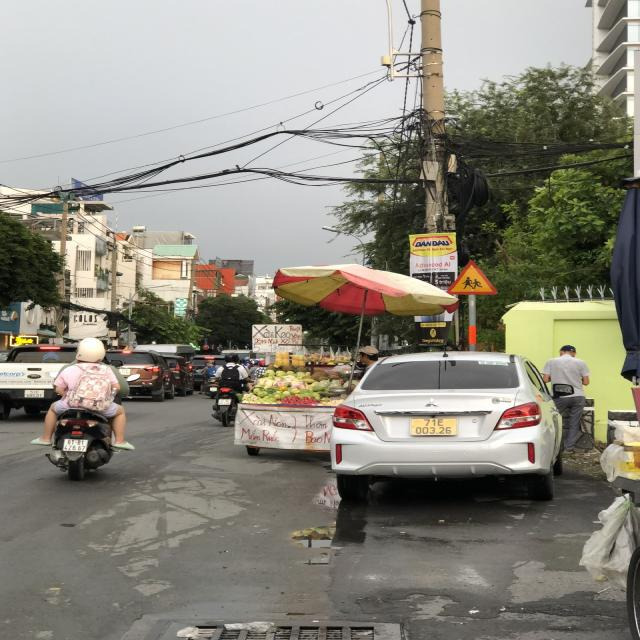Bien bao tre em: (442, 257, 500, 296)
